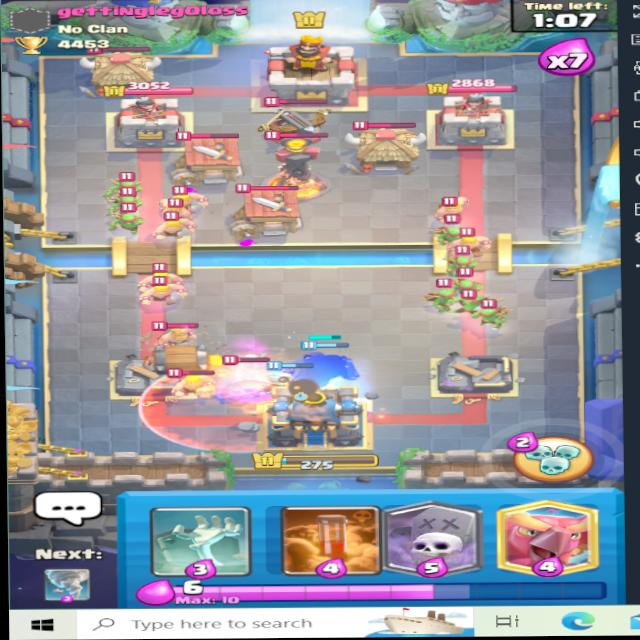barbarian: (149, 209, 207, 237), (156, 319, 202, 350), (164, 367, 217, 393), (426, 196, 475, 224), (139, 263, 187, 289), (450, 230, 494, 256), (169, 185, 209, 210), (159, 199, 200, 219), (142, 285, 186, 303)
barbarian-hut: (170, 127, 246, 182), (230, 182, 311, 232)
goblin-hut: (344, 118, 431, 177), (80, 42, 157, 93)
inferno-tower: (264, 128, 334, 197)
spear-goblin: (473, 295, 510, 326), (457, 288, 489, 321), (423, 280, 457, 309), (439, 253, 480, 273), (440, 217, 469, 245), (113, 184, 144, 210), (111, 212, 140, 236), (118, 173, 147, 197), (455, 274, 485, 296)
x-bow: (244, 90, 336, 149)
